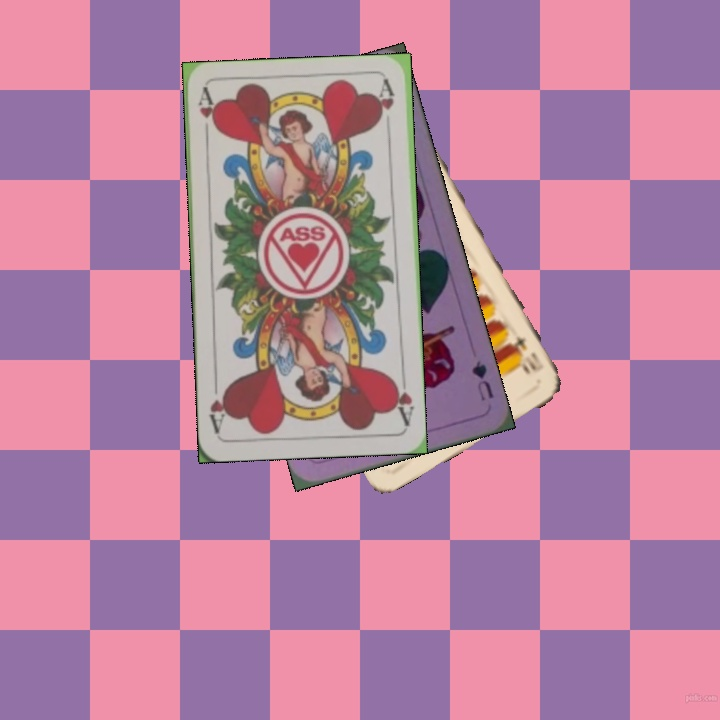E10: (511, 331, 546, 375)
GU: (467, 356, 496, 404)
HA: (388, 368, 417, 428), (194, 86, 219, 146)
